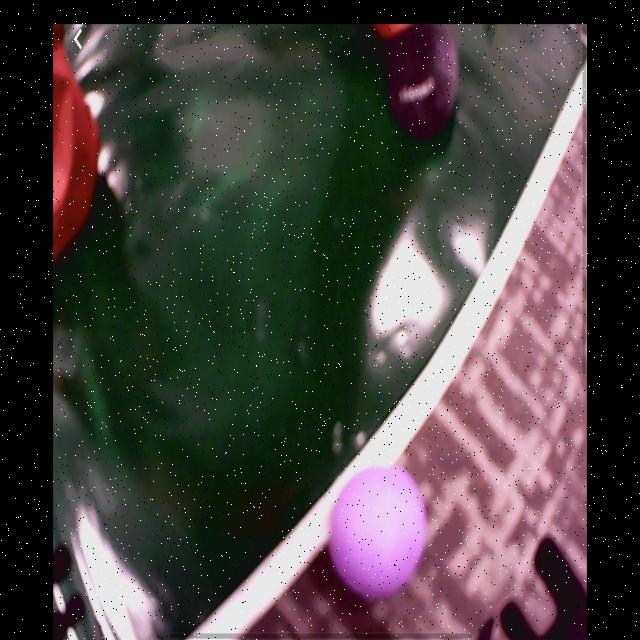ball: (333, 471, 424, 594)
